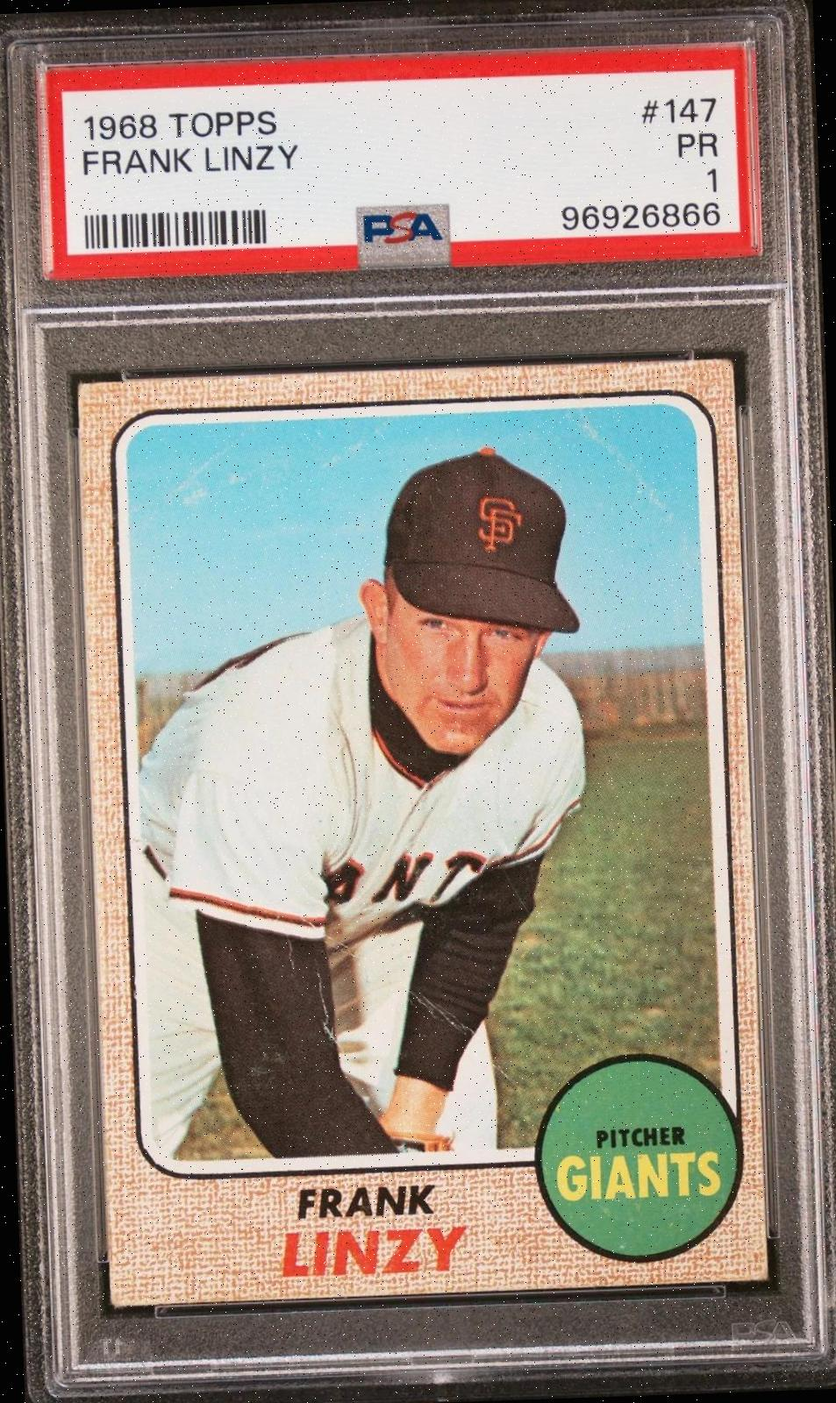card-2UtV: (76, 357, 769, 1309)
